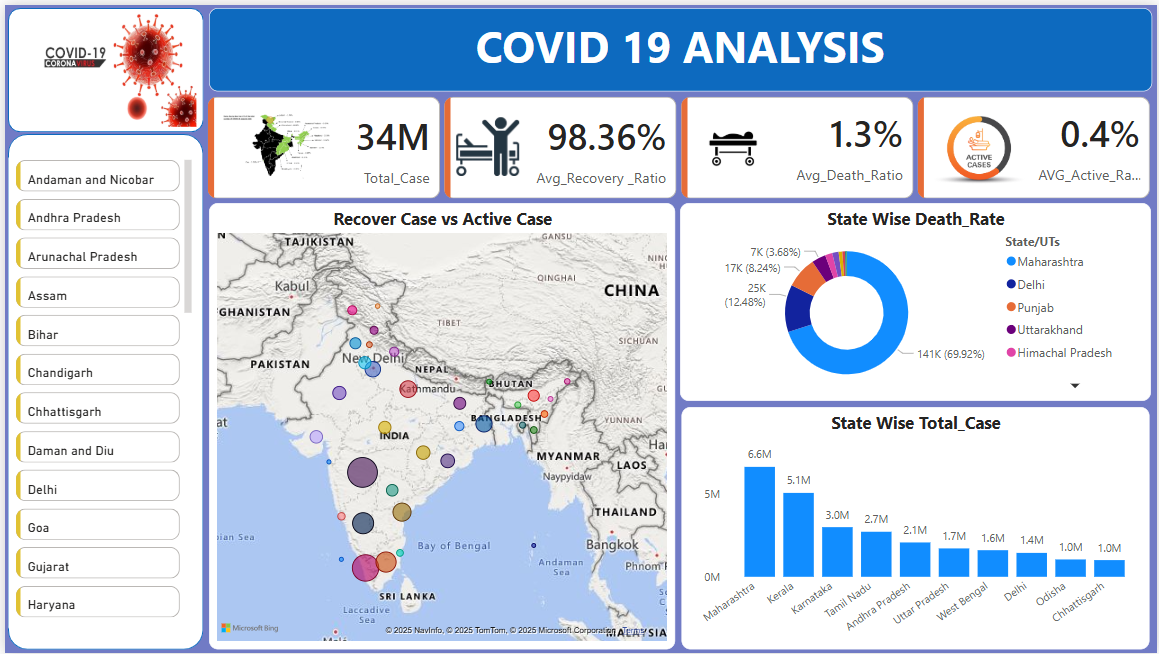

This screenshot's page, from the dashboard's own definition file:
{"tool":"powerbi","page":{"name":"Page 1","canvas":[1280,720],"ordinal":0},"visuals":[{"type":"cardVisual","fields":{"Data":["Data.Total_Case","Data.Avg_Decharge","Data.Avg_Death_ratio","Data.AVG_Active"]},"box":[221.1,96.4,1058.3,122.8],"z":0},{"type":"shape","box":[4,3.8,217.3,138],"z":1000},{"type":"shape","box":[3.8,145.5,213.5,566.9],"z":2000},{"type":"advancedSlicerVisual","fields":{"Values":["Data.State/UTs"]},"box":[3.8,162.5,213.5,540.5],"z":3000},{"type":"map","title":" Recover Case or Active Case","fields":{"Category":["Data.State/UTs"],"Series":["Data.Active"],"Size":["Sum(Data.Discharged)"]},"box":[223,219.2,519.7,493.2],"z":4000},{"type":"donutChart","title":"Death_Rate","fields":{"Category":["Data.State/UTs"],"Y":["Sum(Data.Deaths)"]},"box":[750.2,219.2,519.7,220],"z":5000},{"type":"columnChart","title":"Total_Case ","fields":{"Category":["Data.State/UTs"],"Y":["Data.Total_Case"]},"box":[752.1,446,519.7,266.5],"z":6000},{"type":"image","box":[13.2,0,204.1,141.7],"z":7000},{"type":"textbox","box":[228.7,3.8,1045,92.6],"z":7001}]}

Visuals, with their boxes in screenshot pixels (x1, y1, x2, y2), scaled from the page's 1280x720 canvas onto the 1159x654 screenshot:
cardVisual - Data.Total_Case x Data.Avg_Decharge: (200, 88, 1158, 199)
shape: (4, 3, 200, 129)
shape: (3, 132, 197, 647)
advancedSlicerVisual - Data.State/UTs: (3, 148, 197, 639)
" Recover Case or Active Case" map: (202, 199, 672, 647)
"Death_Rate" donutChart: (679, 199, 1150, 399)
"Total_Case " columnChart: (681, 405, 1152, 647)
image: (12, 0, 197, 129)
textbox: (207, 3, 1153, 88)
